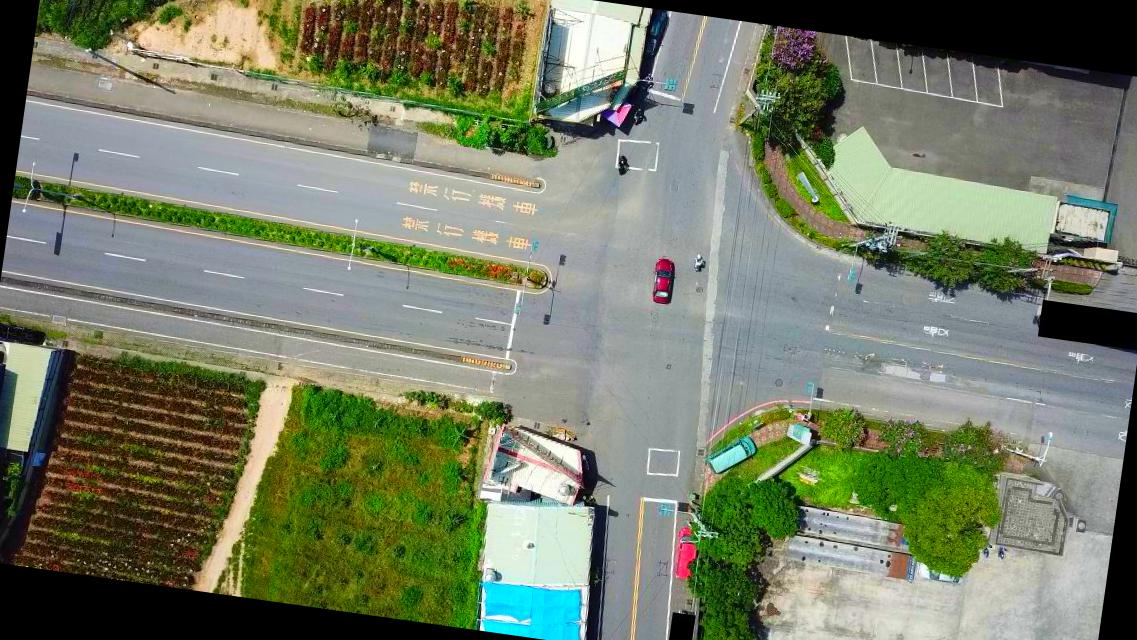vehicle: (704, 434, 759, 479), (671, 526, 705, 584), (649, 258, 676, 306), (914, 558, 962, 585)
